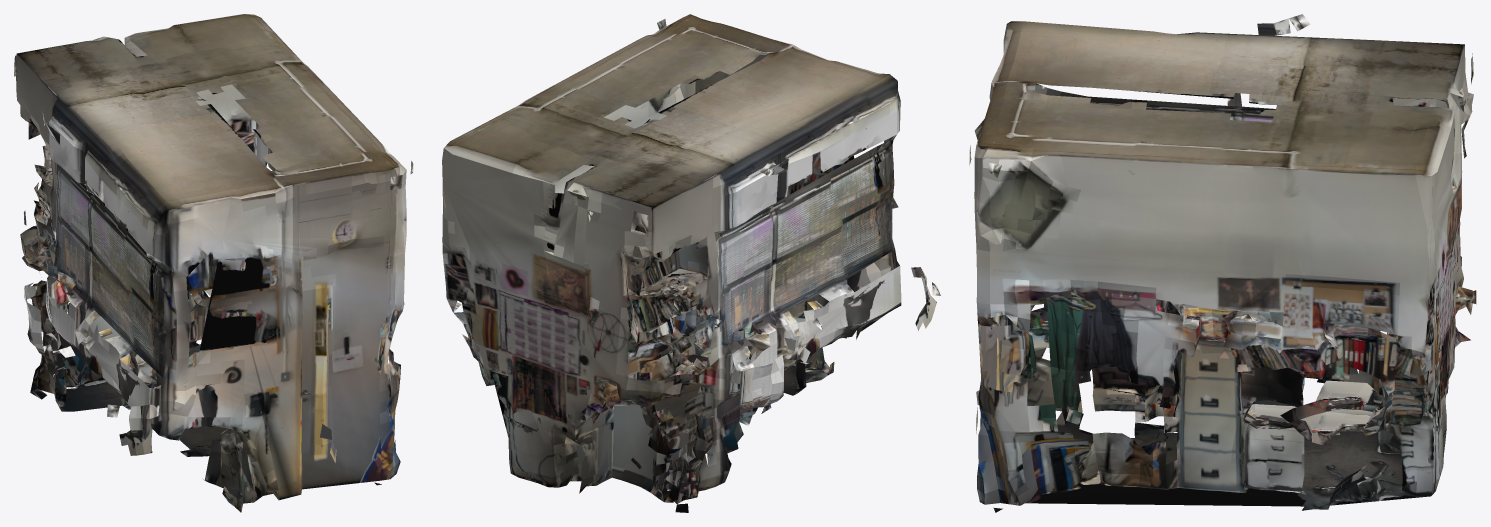
File: Mg_photo_office-IM.fbx
3 views of the same model, side by side, from view 1: azimuth 30°, elevation 25°; view 2: azimuth 150°, elevation 25°; view 3: azimuth 270°, elevation 25° (orthographic). The views are drawn at different scales.
Visible parts, largest first — view 1: Mg_photo_office-IM; view 2: Mg_photo_office-IM; view 3: Mg_photo_office-IM.
Boxes of the visible parts, box(x1,y1,x2,y2) form: Mg_photo_office-IM: box(14, 14, 413, 512); Mg_photo_office-IM: box(442, 14, 940, 512); Mg_photo_office-IM: box(969, 14, 1476, 512).
Size of the model in its own units: 341 by 329 by 397.
Materials: 1 (1 with a texture image).
